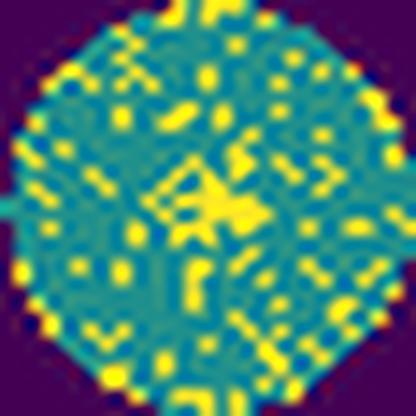Center: (136, 154, 279, 254)
